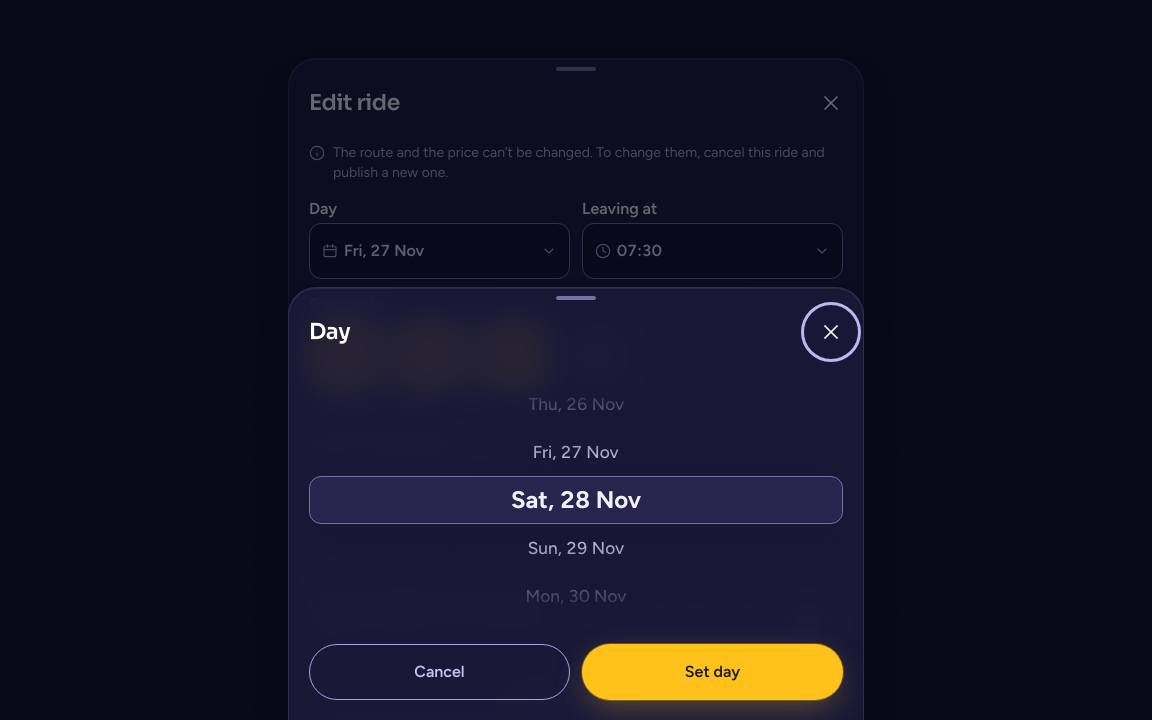
Scenario: EditRideSheet › DEPARTURE_TOO_FAR -> time: shows the message inline and focuses the field
Earlier steps of the test are not shown.
(page scrolled)
Click the button "Set day" at (712, 672), box [582, 644, 843, 700]
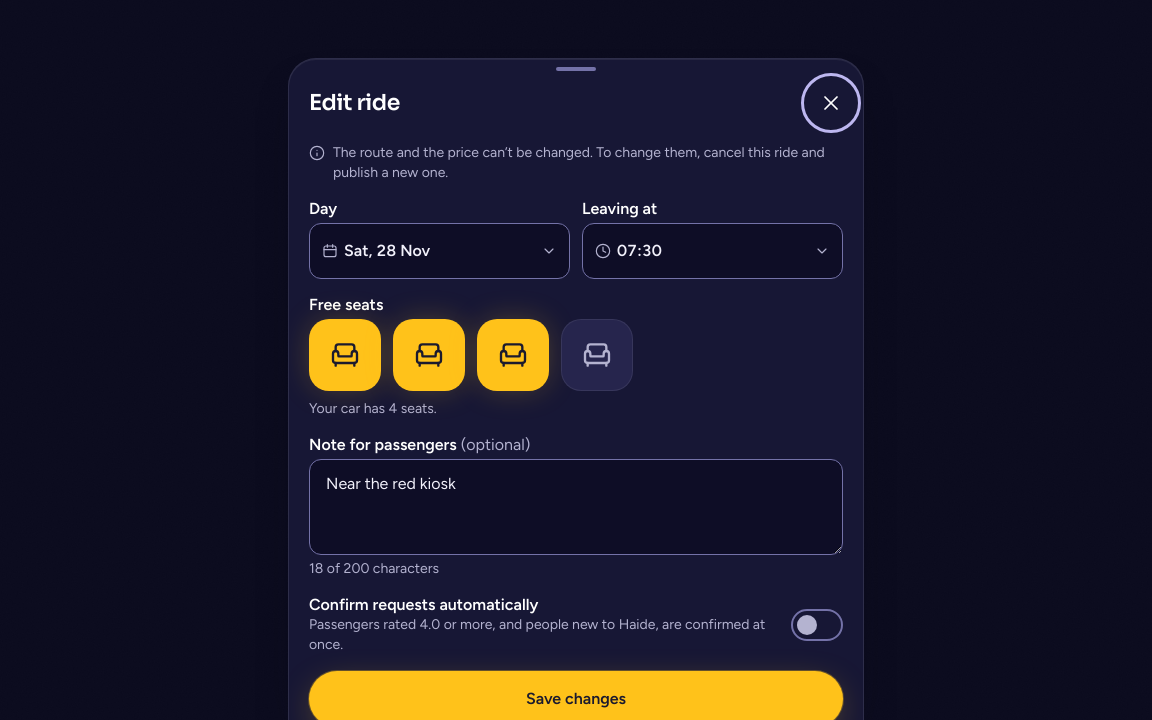
Click the radio button named "2 seats" at (429, 355), box [393, 319, 465, 391]
(page scrolled)
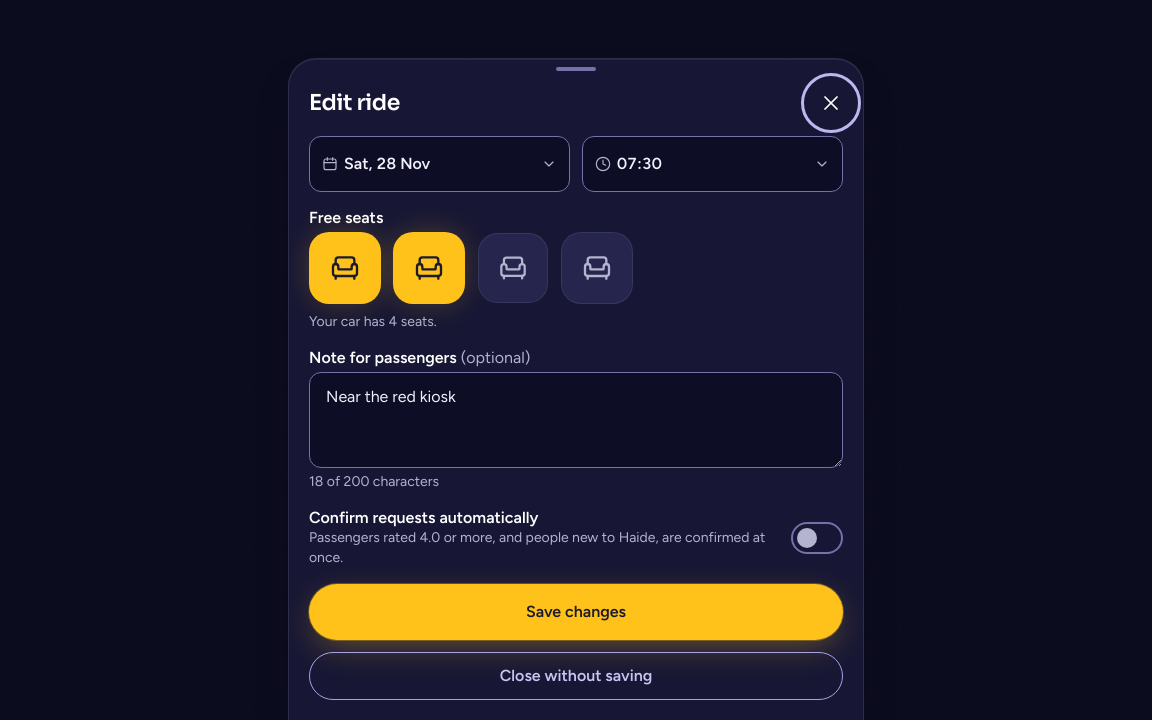
Click the button "Save changes" at (576, 612), box [309, 584, 843, 640]
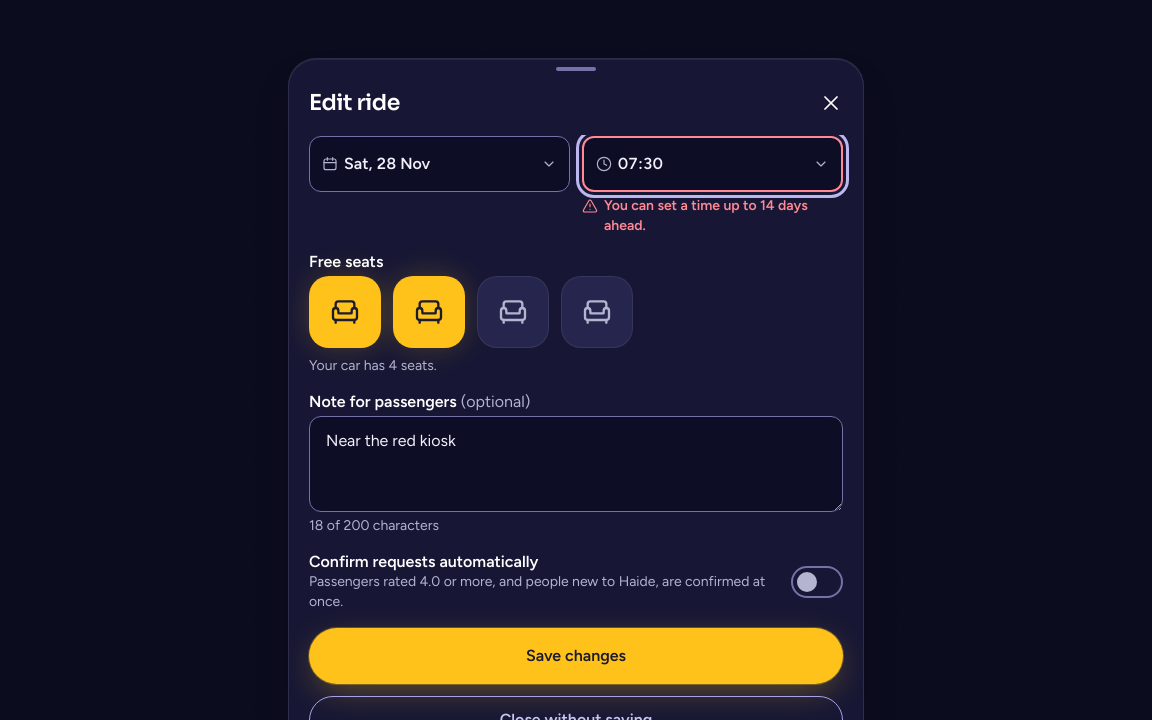
Result: the message "You can set a time up to 14 days ahead." is shown at [582, 196, 843, 236]
